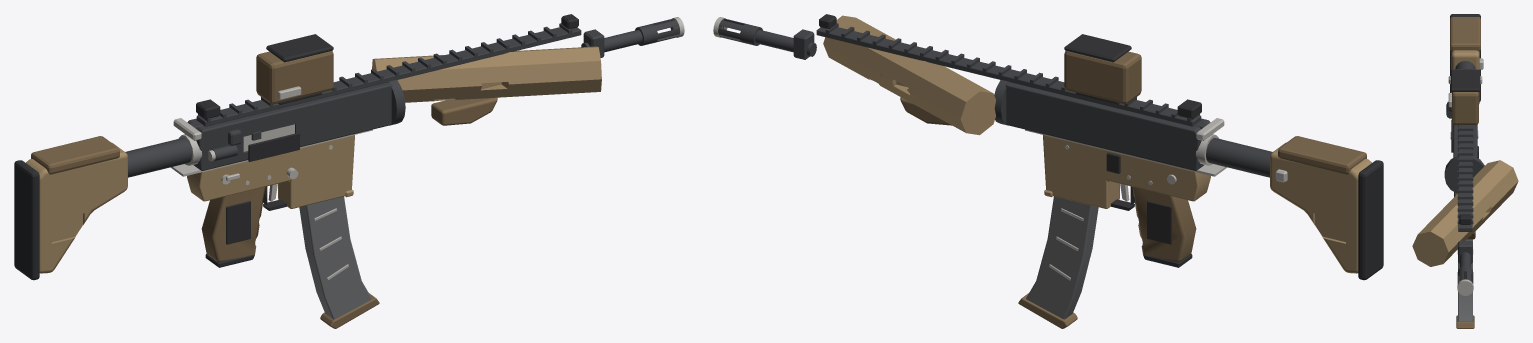
The model's file is rifle.glb.
3 renders of one model, left to right at view 1: azimuth 30°, elevation 25°; view 2: azimuth 150°, elevation 25°; view 3: azimuth 270°, elevation 25°, orthographic. The views are drawn at different scales.
Parts seen in each view (by area): view 1: gun_frame, gun_mag, gun_slide; view 2: gun_frame, gun_mag; view 3: gun_frame, gun_mag.
Boxes of the visible parts, bbox=[...] form: gun_frame: bbox=[14, 14, 684, 280]; gun_mag: bbox=[299, 196, 379, 328]; gun_slide: bbox=[173, 118, 294, 151]; gun_frame: bbox=[713, 14, 1383, 280]; gun_mag: bbox=[1018, 196, 1098, 328]; gun_frame: bbox=[1412, 14, 1518, 295]; gun_mag: bbox=[1456, 239, 1474, 328].
Size of the model in its own units: 0.907 by 0.3786 by 0.1569.
